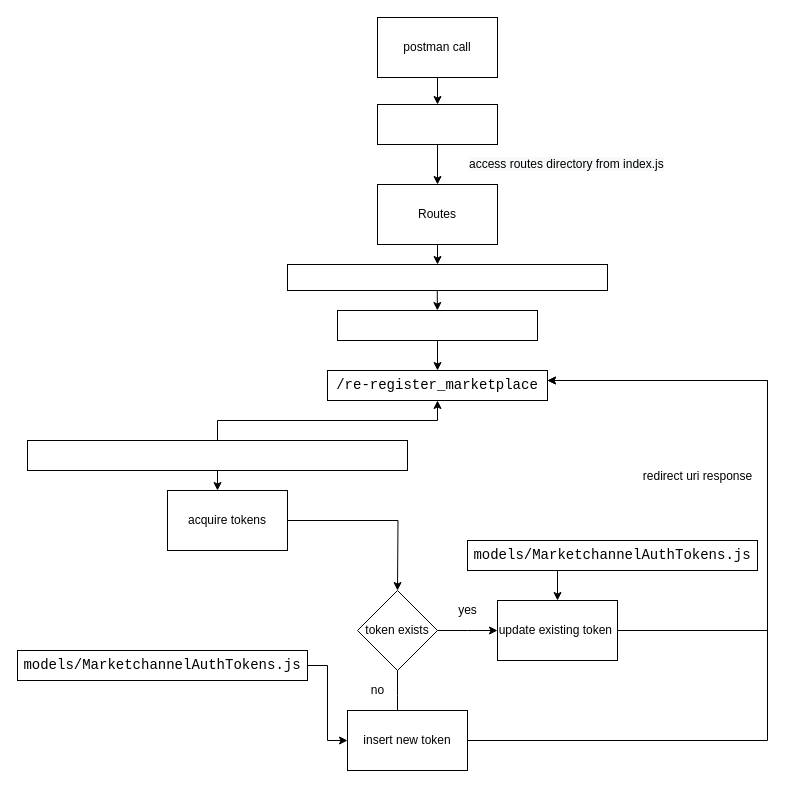
The diagram is 793 pixels wide and 788 high, and some of its shapes have lost their labels. The centre of each missing label's shape, as x and y in pixels:
/api/v2/marketplace_management/inventory_type: the point at 447,277
app.js: the point at 437,124
marketchannels_regitration.js: the point at 437,325
services/marketchannels_registration/marketchannels_registration.js: the point at 217,455
